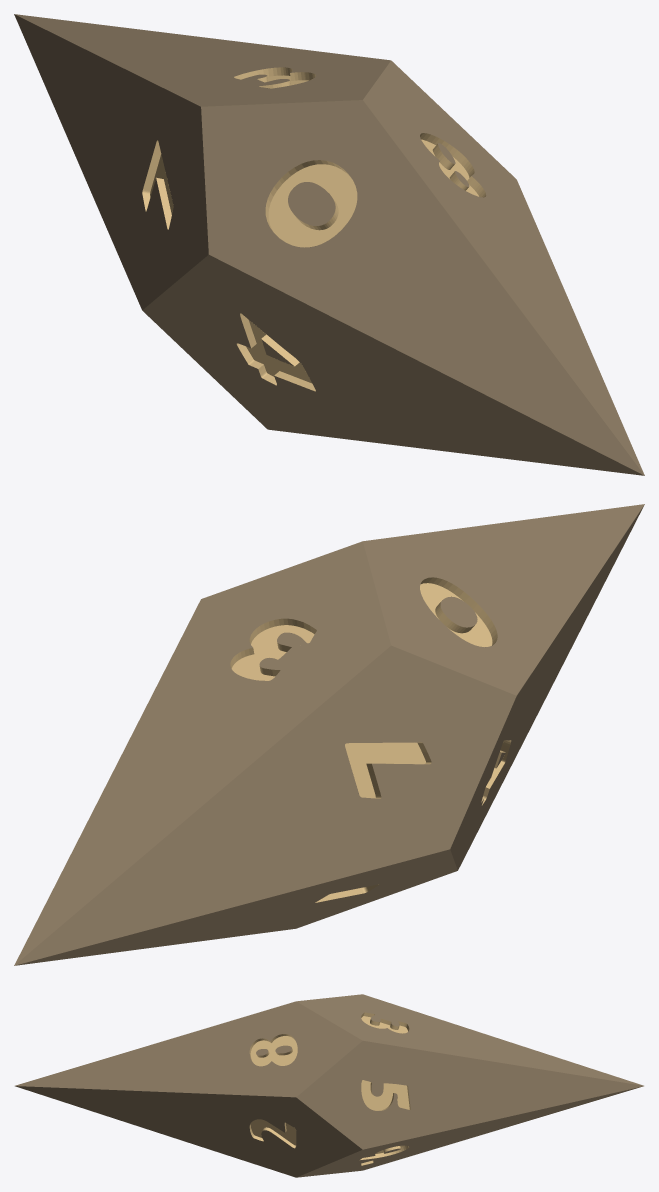
The model's file is fate-d10.glb.
3 views of the same model, one above another, from view 1: azimuth 30°, elevation 25°; view 2: azimuth 150°, elevation 25°; view 3: azimuth 270°, elevation 25° (orthographic). The views are drawn at different scales.
Visible parts, largest first — view 1: Collection Numbered - d10 text-1_Dice_0, Collection Numbered - d10 text-1_Numbers_0; view 2: Collection Numbered - d10 text-1_Dice_0, Collection Numbered - d10 text-1_Numbers_0; view 3: Collection Numbered - d10 text-1_Dice_0, Collection Numbered - d10 text-1_Numbers_0.
Part boxes in pixels (bbox=[...]): Collection Numbered - d10 text-1_Dice_0: bbox=[14, 14, 644, 475]; Collection Numbered - d10 text-1_Numbers_0: bbox=[142, 67, 486, 391]; Collection Numbered - d10 text-1_Dice_0: bbox=[14, 504, 644, 965]; Collection Numbered - d10 text-1_Numbers_0: bbox=[230, 577, 511, 902]; Collection Numbered - d10 text-1_Dice_0: bbox=[15, 994, 643, 1177]; Collection Numbered - d10 text-1_Numbers_0: bbox=[249, 1012, 410, 1165].
Size of the model in its own units: 21.27 by 22.36 by 75.48.
